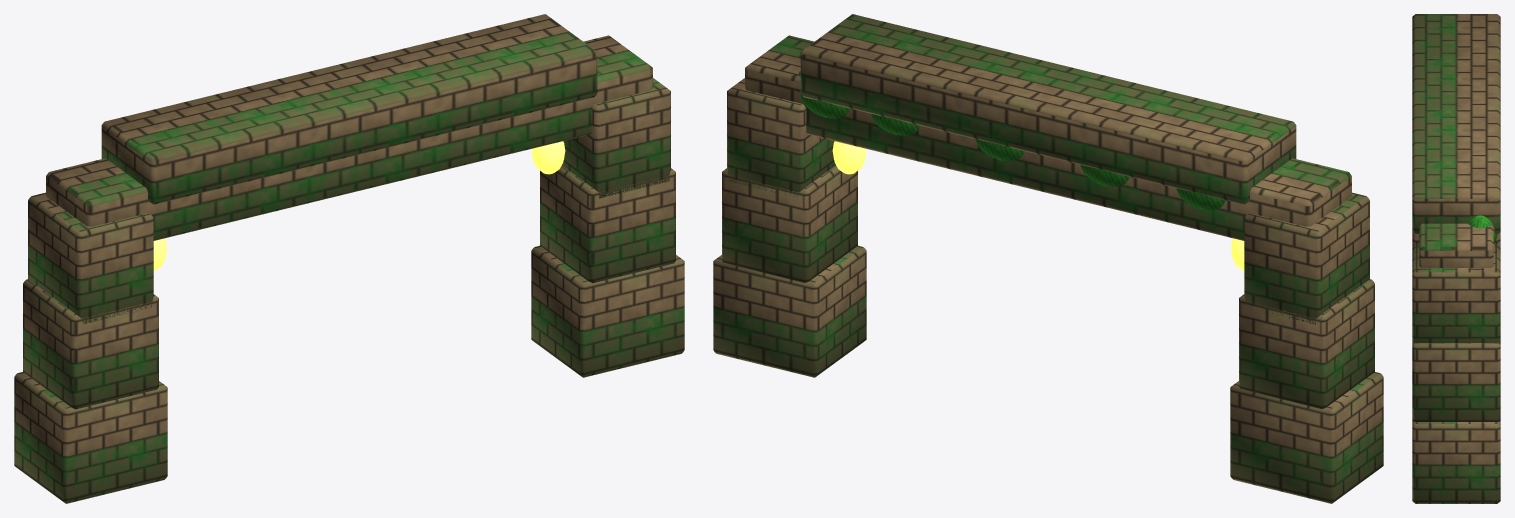
The model's file is prop_tiki_arch.glb.
3 views of the same model, side by side, from view 1: azimuth 30°, elevation 25°; view 2: azimuth 150°, elevation 25°; view 3: azimuth 270°, elevation 25° (orthographic). The views are drawn at different scales.
Visible parts, largest first — view 1: MayanPylon_-1.0_0; view 2: MayanPylon_-1.0_0; view 3: MayanPylon_-1.0_0.
Part boxes in pixels (x1=…): MayanPylon_-1.0_0: x1=14, y1=14, x2=684, y2=503; MayanPylon_-1.0_0: x1=713, y1=14, x2=1383, y2=503; MayanPylon_-1.0_0: x1=1412, y1=14, x2=1500, y2=503.
Size of the model in its own units: 35.6 by 17.8 by 5.2.
Materials: 3 (2 with a texture image).
